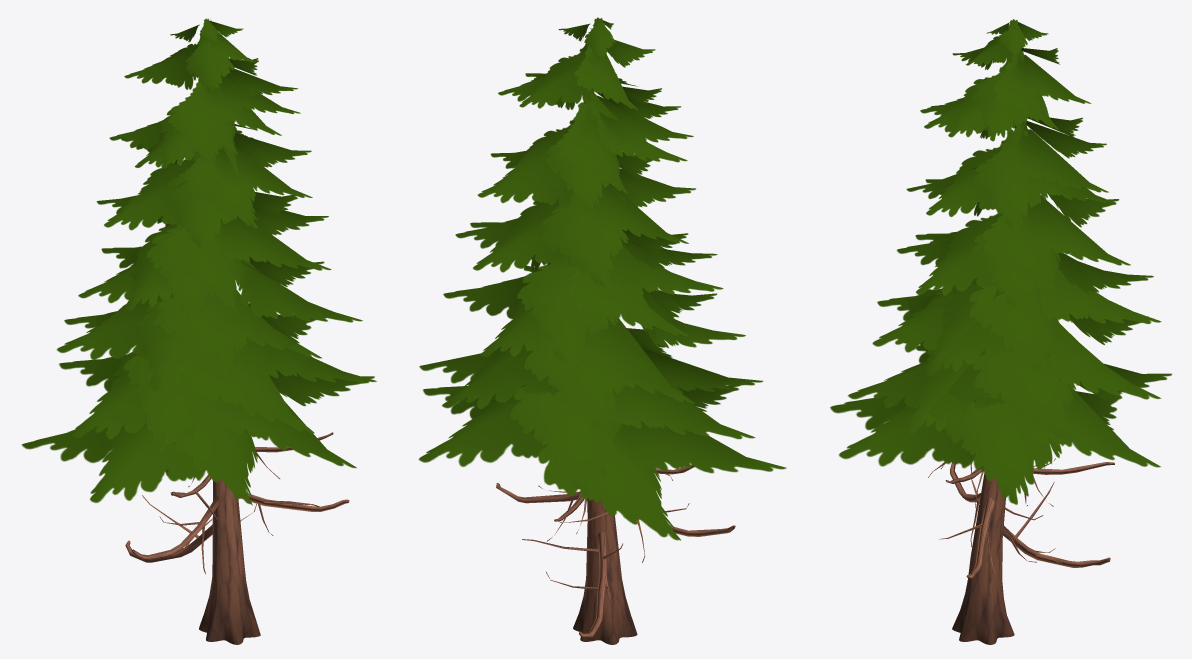
File: pine1.glb
3 renders of one model, left to right at view 1: azimuth 30°, elevation 25°; view 2: azimuth 150°, elevation 25°; view 3: azimuth 270°, elevation 25°, orthographic. The views are drawn at different scales.
Parts seen in each view (by area): view 1: Pine_4; view 2: Pine_4; view 3: Pine_4.
Boxes of the visible parts, <box> form: Pine_4: <box>21,18,376,644</box>; Pine_4: <box>418,17,786,644</box>; Pine_4: <box>830,19,1172,644</box>.
Size of the model in its own units: 5.8 by 10.24 by 5.37.
2 materials, 2 textured.
